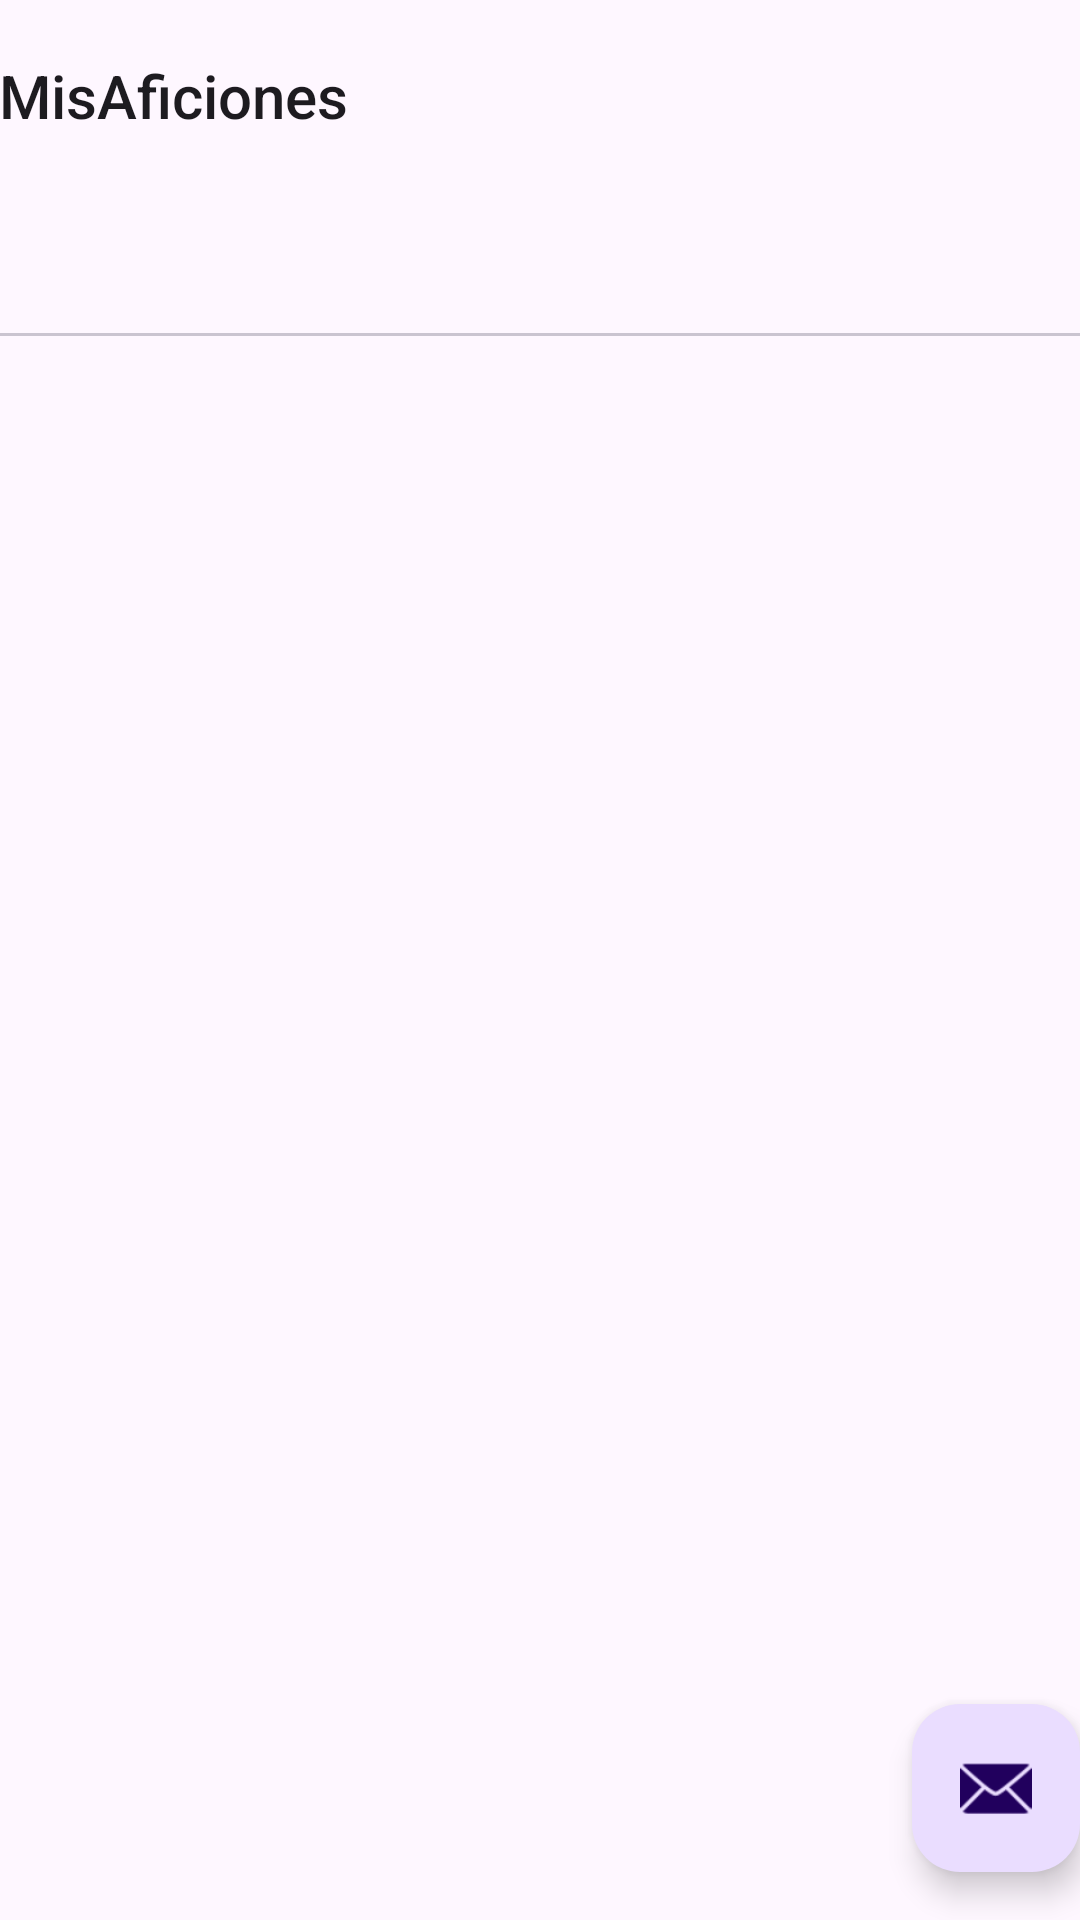

Icon click points for this 1080px x 1920px phone screenshot, format (x,y):
email: (996,1788)
